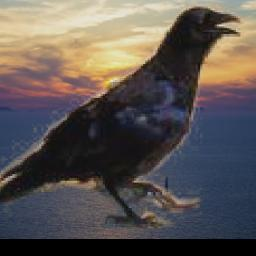Crow: (0, 4, 243, 228)
